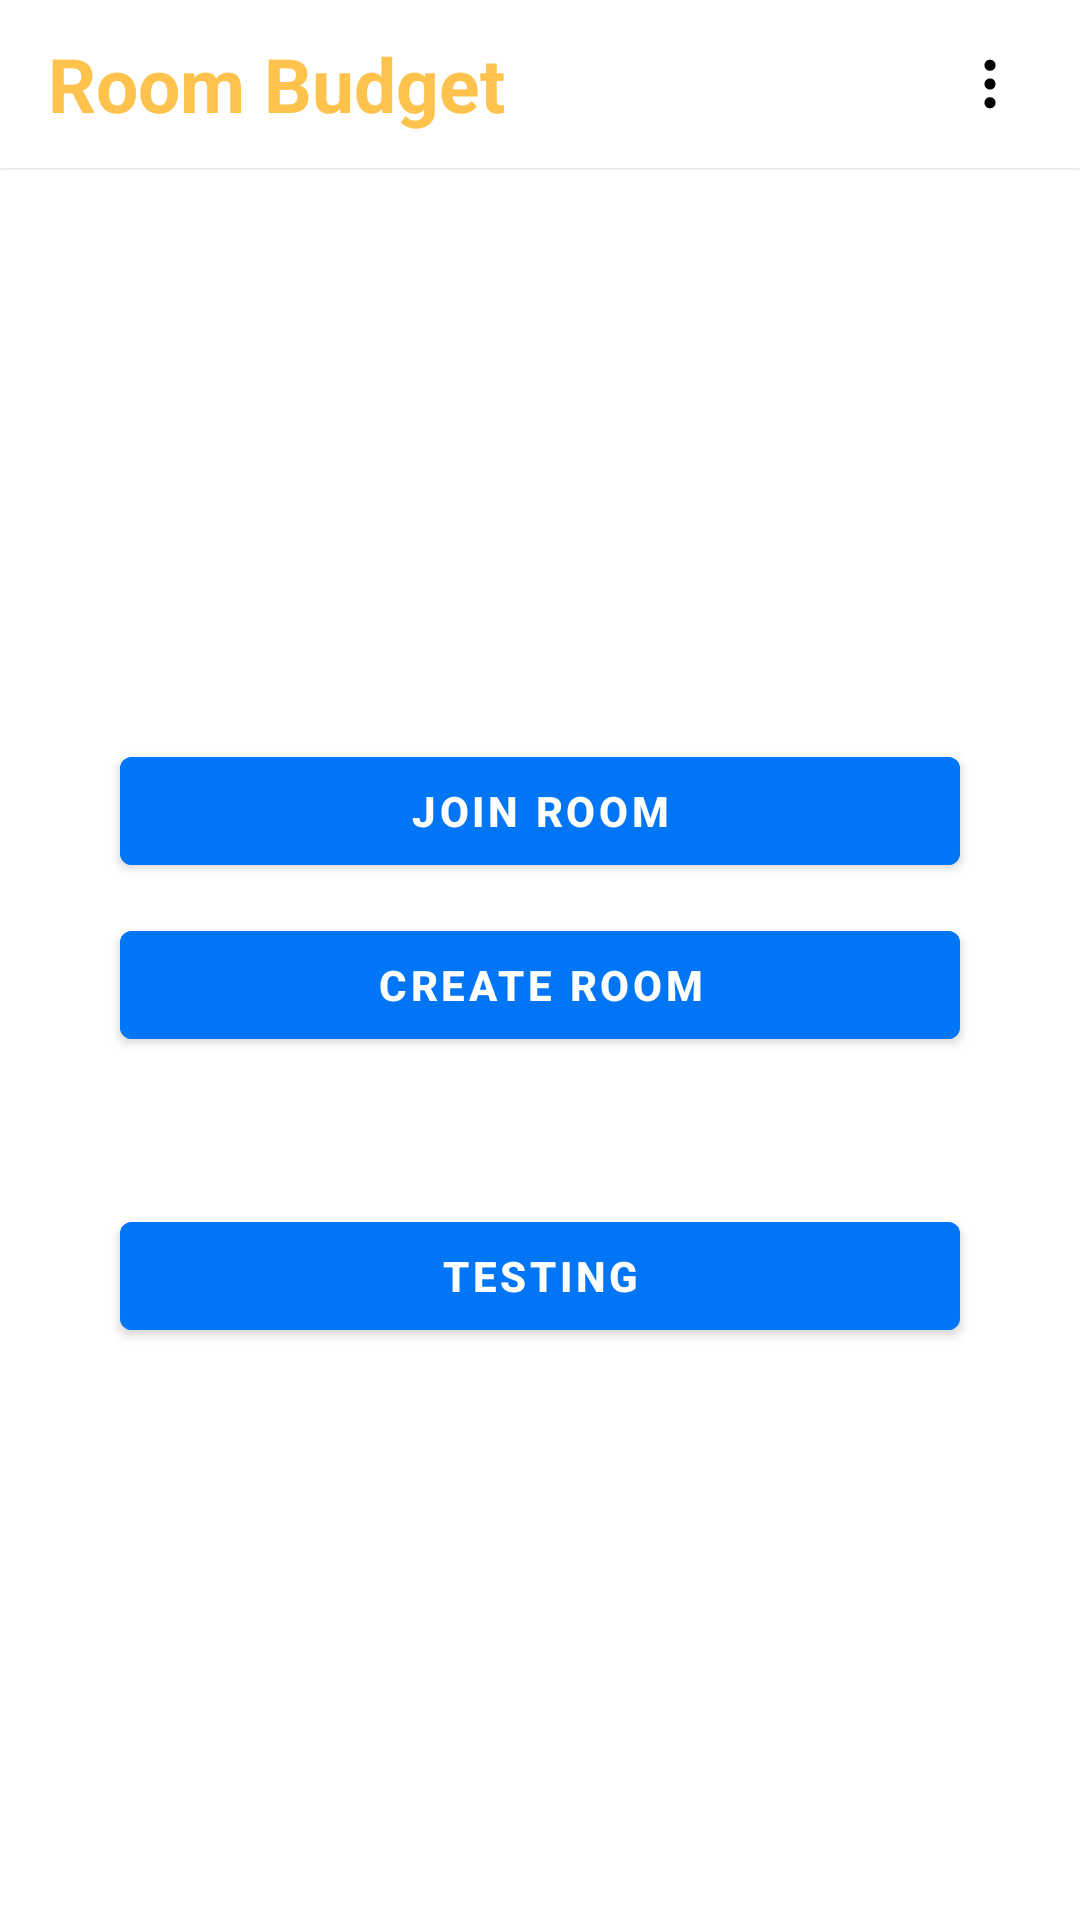

Point at icon controls on the screen. Image size 1080x1920, points as (x=x, y=y).
Menu: (x=990, y=84)
